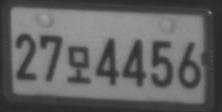2: (14, 32, 37, 81)
4: (94, 38, 120, 85), (123, 39, 147, 86)
5: (149, 41, 173, 87)
6: (178, 42, 201, 88)
7: (40, 34, 63, 82)
모: (68, 44, 91, 85)
